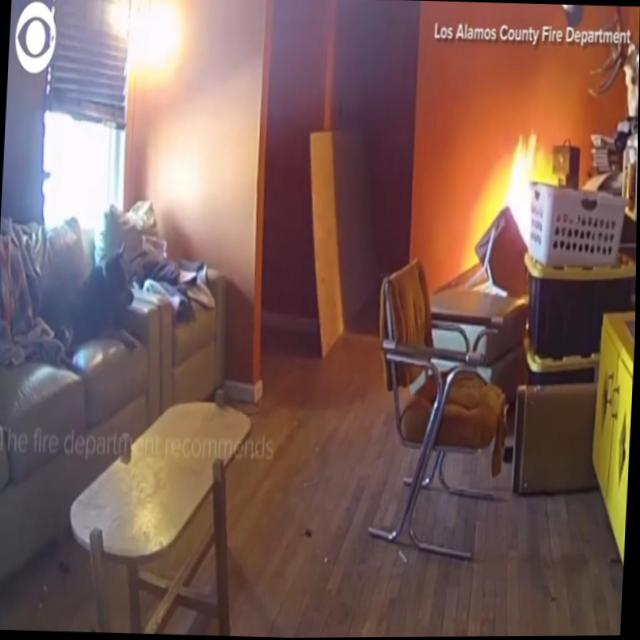fire: (505, 123, 558, 252)
